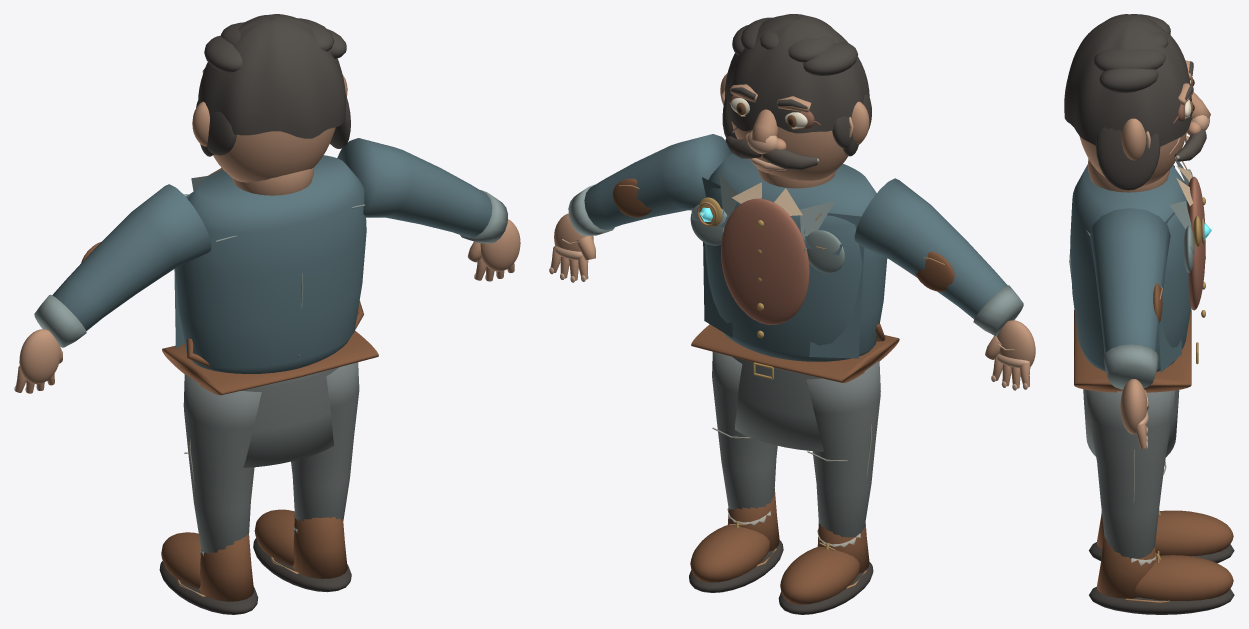
3 renders of one model, left to right at view 1: azimuth 30°, elevation 25°; view 2: azimuth 150°, elevation 25°; view 3: azimuth 270°, elevation 25°, orthographic. The views are drawn at different scales.
Parts seen in each view (by area): view 1: Jacket shell - front, sides and back, Asymmetrical wavy hair cap, Left articulated canvas sleeve, Left trouser leg, Right articulated canvas sleeve, Trouser seat and waist, Right trouser leg, Broad sculpted head, Leather belt front, Right boot shaft, Left boot shaft, Right boot vamp and toe (+10 smaller); view 2: Jacket shell - front, sides and back, Asymmetrical wavy hair cap, Left trouser leg, Left articulated canvas sleeve, Rust cotton shirt visible through opening, Right articulated canvas sleeve, Trouser seat and waist, Right trouser leg, Leather belt front, Left boot vamp and toe, Right boot vamp and toe, Broad sculpted head (+21 smaller); view 3: Right trouser leg, Asymmetrical wavy hair cap, Jacket shell - front, sides and back, Right articulated canvas sleeve, Right boot vamp and toe, Left boot vamp and toe, Leather belt front, Longer right temple wave, Right boot shaft, Right stitched cuff, Right boot sole, Rust cotton shirt visible through opening (+15 smaller).
Boxes of the visible parts, x1=… form: Jacket shell - front, sides and back: x1=175, y1=155, x2=366, y2=373; Asymmetrical wavy hair cap: x1=198, y1=14, x2=346, y2=138; Left articulated canvas sleeve: x1=52, y1=184, x2=211, y2=330; Left trouser leg: x1=183, y1=374, x2=261, y2=553; Right articulated canvas sleeve: x1=337, y1=138, x2=492, y2=237; Trouser seat and waist: x1=241, y1=367, x2=338, y2=467; Right trouser leg: x1=291, y1=362, x2=359, y2=521; Broad sculpted head: x1=213, y1=127, x2=335, y2=182; Leather belt front: x1=162, y1=331, x2=378, y2=395; Right boot shaft: x1=292, y1=515, x2=347, y2=578; Left boot shaft: x1=199, y1=533, x2=253, y2=601; Right boot vamp and toe: x1=254, y1=509, x2=294, y2=566; Jacket shell - front, sides and back: x1=704, y1=153, x2=887, y2=361; Asymmetrical wavy hair cap: x1=725, y1=14, x2=869, y2=133; Left trouser leg: x1=806, y1=361, x2=880, y2=537; Left articulated canvas sleeve: x1=854, y1=178, x2=1007, y2=318; Rust cotton shirt visible through opening: x1=721, y1=198, x2=809, y2=324; Right articulated canvas sleeve: x1=584, y1=134, x2=732, y2=229; Trouser seat and waist: x1=733, y1=357, x2=823, y2=451; Right trouser leg: x1=712, y1=352, x2=777, y2=509; Leather belt front: x1=691, y1=324, x2=899, y2=382; Left boot vamp and toe: x1=780, y1=546, x2=859, y2=604; Right boot vamp and toe: x1=690, y1=525, x2=769, y2=582; Broad sculpted head: x1=731, y1=121, x2=848, y2=180; Right trouser leg: x1=1086, y1=390, x2=1175, y2=558; Asymmetrical wavy hair cap: x1=1064, y1=14, x2=1191, y2=146; Jacket shell - front, sides and back: x1=1070, y1=164, x2=1190, y2=371; Right articulated canvas sleeve: x1=1090, y1=208, x2=1170, y2=354; Right boot vamp and toe: x1=1135, y1=555, x2=1233, y2=601; Left boot vamp and toe: x1=1155, y1=510, x2=1233, y2=556; Leather belt front: x1=1074, y1=309, x2=1191, y2=392; Longer right temple wave: x1=1096, y1=127, x2=1160, y2=190; Right boot shaft: x1=1097, y1=533, x2=1155, y2=598; Right stitched cuff: x1=1103, y1=344, x2=1158, y2=389; Right boot sole: x1=1089, y1=586, x2=1234, y2=614; Rust cotton shirt visible through opening: x1=1186, y1=176, x2=1205, y2=310.
Bounding box in the file's own units: 1.58 × 1.75 × 0.4773.
